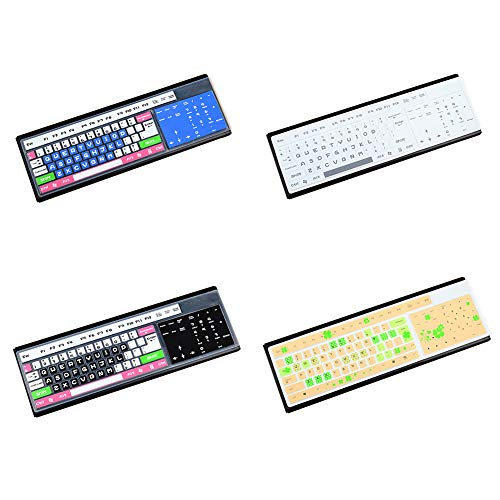Teclado: (264, 277, 493, 416), (11, 285, 243, 415), (16, 73, 234, 201), (266, 72, 485, 199)
